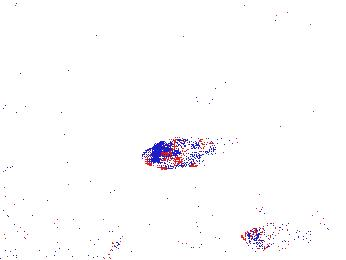X-ray fish: (242, 218, 305, 254), (145, 140, 216, 170)
